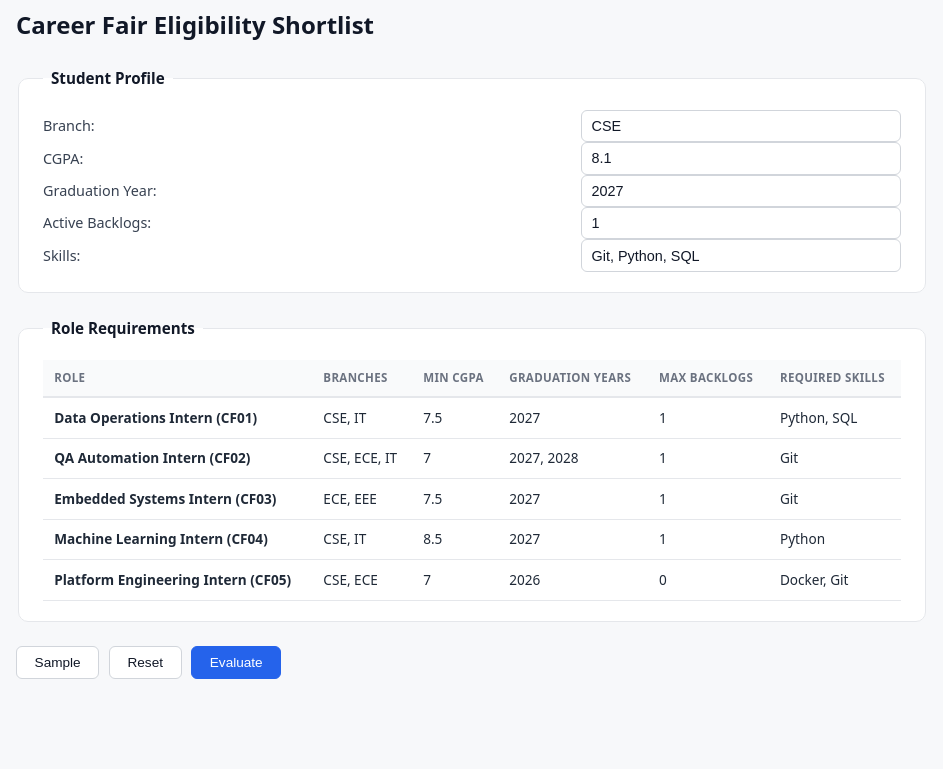
Test case: App integration › reset restores the default profile and clears results
Replace the text in the field labelled "Branch:" with "ECE" at (741, 126), box [581,110,901,142]
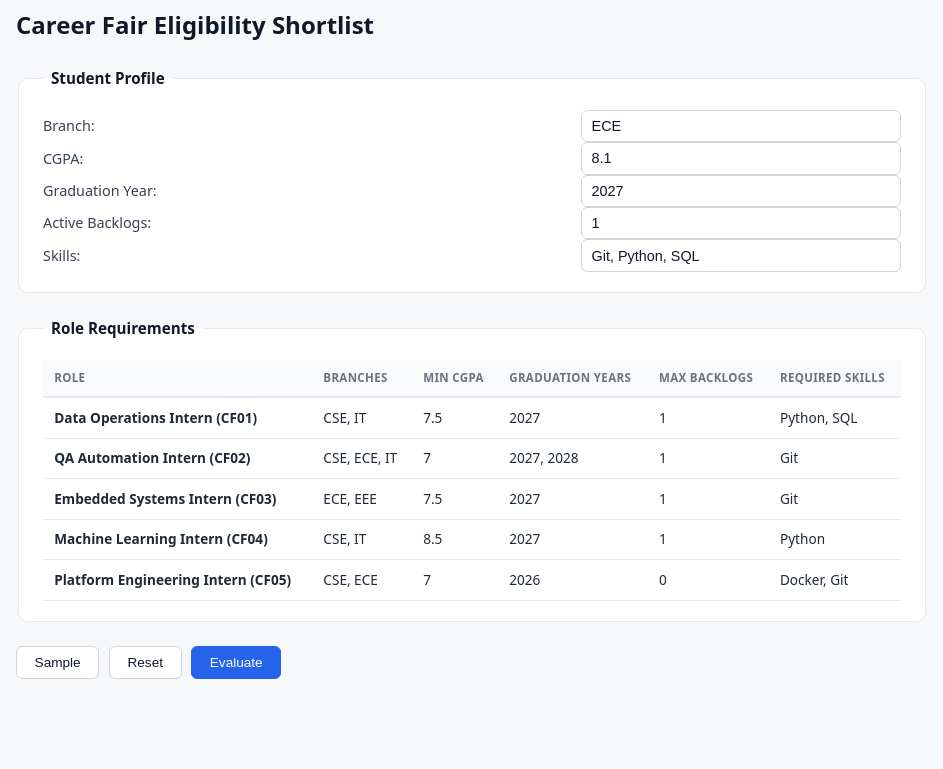
Click the button "Evaluate" at (236, 662), box [191,646,281,679]
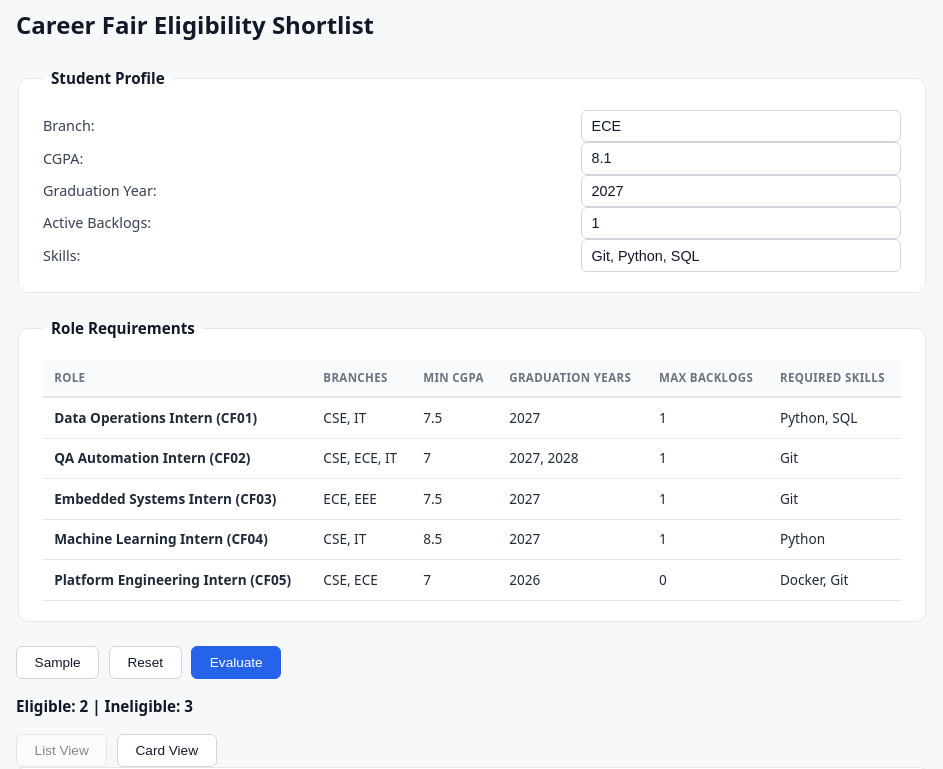
Click the button "Reset" at (145, 662), box [109,646,182,679]
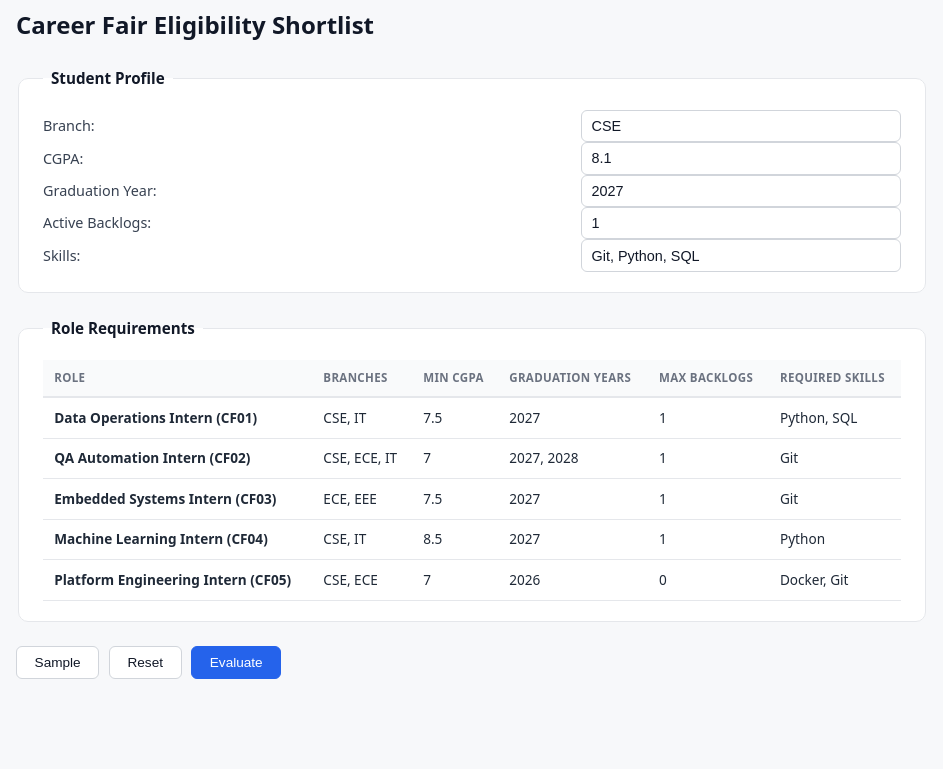
Now the field labelled "Branch:" holds "CSE", box [581,110,901,142]
Now the text "Eligible: 2 | Ineligible: 3" is gone
